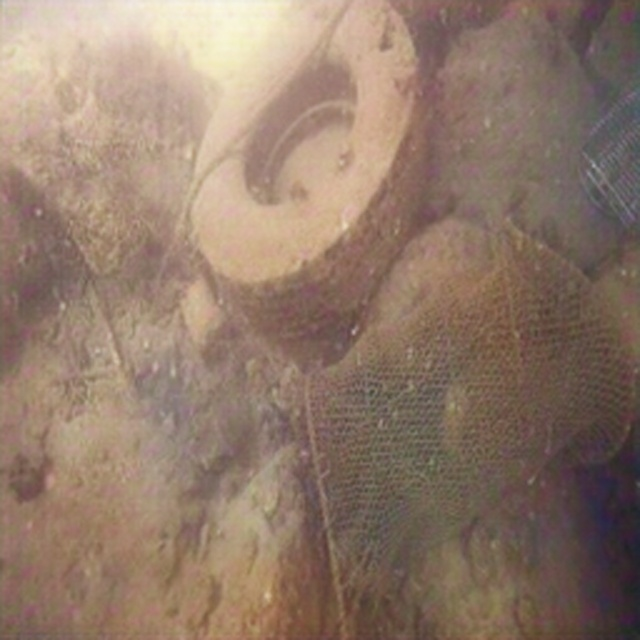mine: (304, 213, 636, 639), (188, 1, 426, 342)
